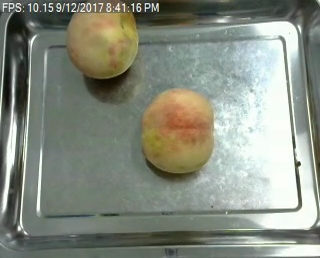Peach: (140, 87, 215, 174), (65, 0, 139, 79)
